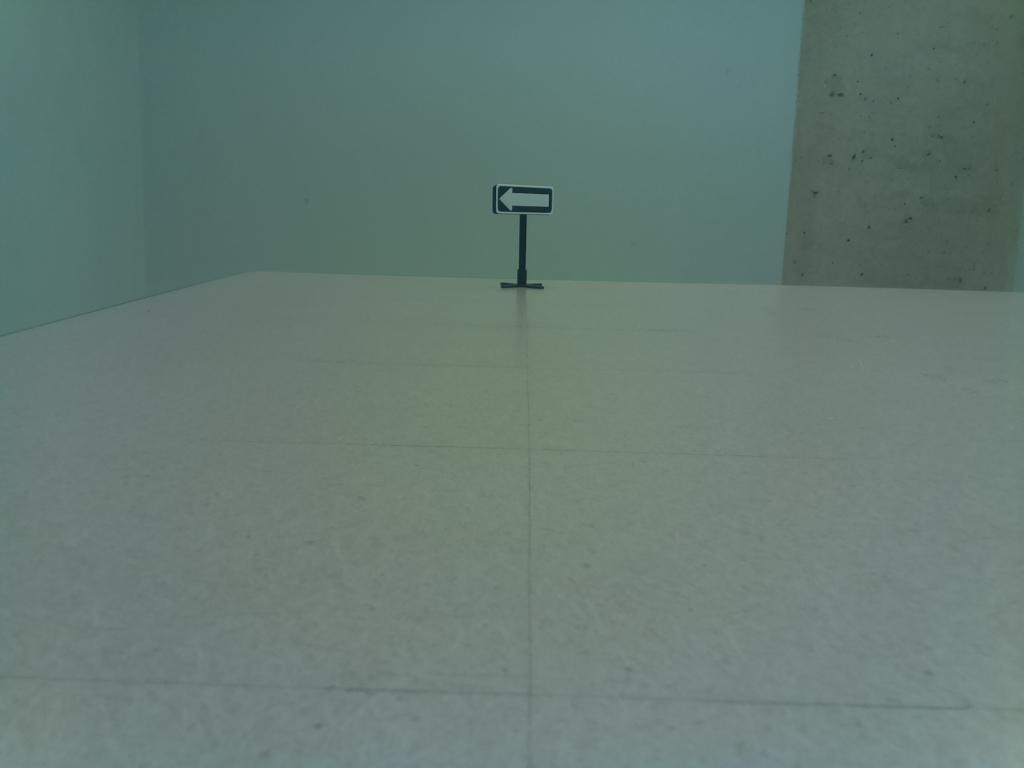sign_oneway_left: (487, 180, 561, 222)
